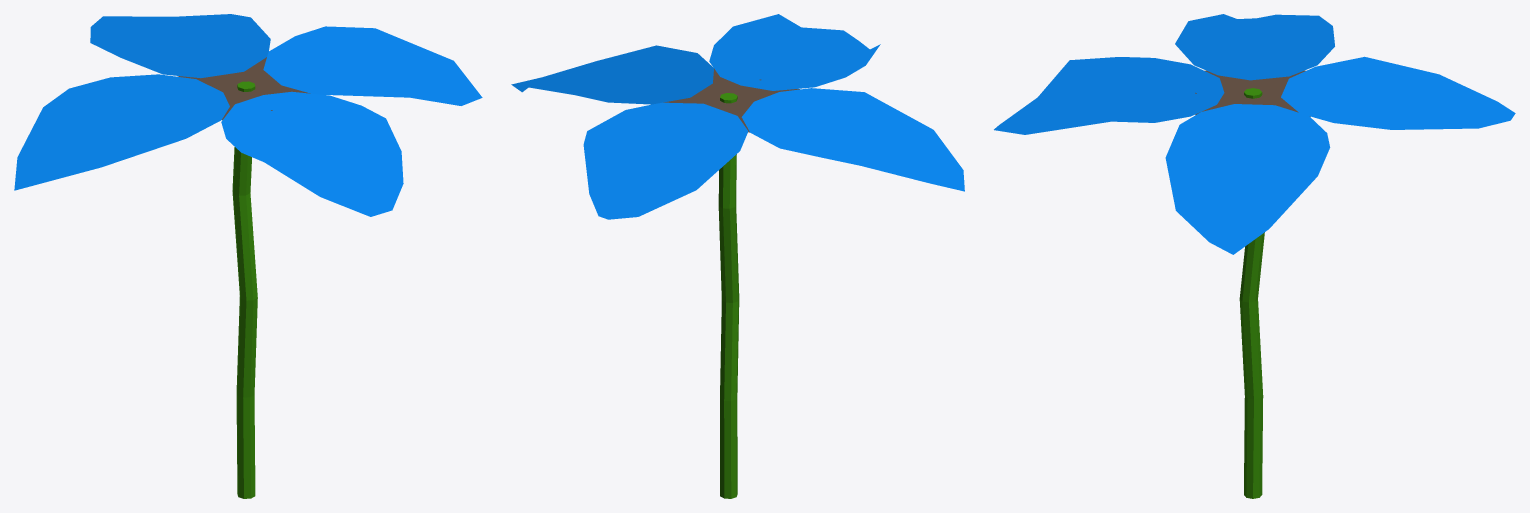
The model's file is blue_flower.glb.
The picture shows the model from 3 angles, left to right: view 1: azimuth 30°, elevation 25°; view 2: azimuth 150°, elevation 25°; view 3: azimuth 270°, elevation 25°; orthographic projection. The views are drawn at different scales.
Parts seen in each view (by area): view 1: BézierCircle.003; view 2: BézierCircle.003; view 3: BézierCircle.003.
Boxes of the visible parts, box(x1,y1,x2,y2) form: BézierCircle.003: box(14, 14, 482, 498); BézierCircle.003: box(511, 14, 964, 498); BézierCircle.003: box(994, 14, 1515, 498).
Bounding box in the file's own units: 0.5054 × 0.4335 × 0.5056.
Materials: 1 (1 with a texture image).
